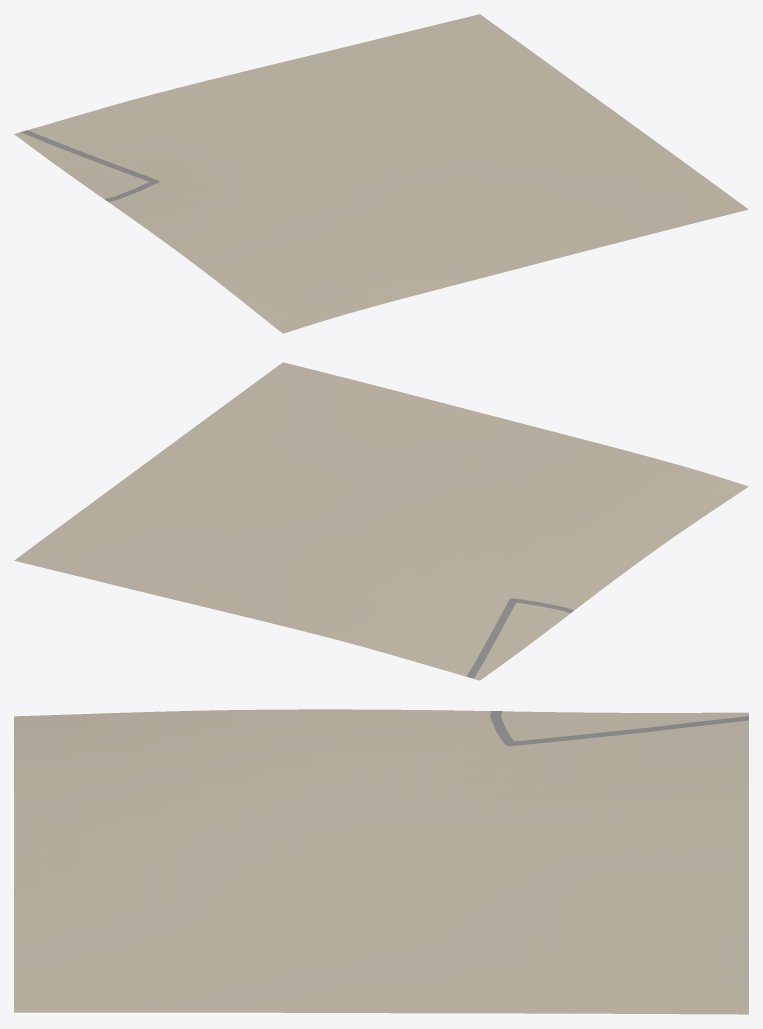
File: bolak_9_2.glb
The picture shows the model from 3 angles, top to bottom: view 1: azimuth 30°, elevation 25°; view 2: azimuth 150°, elevation 25°; view 3: azimuth 270°, elevation 25°; orthographic projection. The views are drawn at different scales.
Visible parts, largest first — view 1: Yer_Tuproq-col, Yol_Mahalla-col; view 2: Yer_Tuproq-col, Yol_Mahalla-col; view 3: Yer_Tuproq-col, Yol_Mahalla-col.
Boxes of the visible parts, left/top/right/bottom form: Yer_Tuproq-col: left=14, top=14, right=748, bottom=333; Yol_Mahalla-col: left=20, top=130, right=159, bottom=201; Yer_Tuproq-col: left=14, top=362, right=748, bottom=680; Yol_Mahalla-col: left=467, top=598, right=573, bottom=678; Yer_Tuproq-col: left=14, top=709, right=748, bottom=1014; Yol_Mahalla-col: left=490, top=711, right=748, bottom=746.
Size of what is drawn, in the model's own units: 400 by 8.68 by 400.
